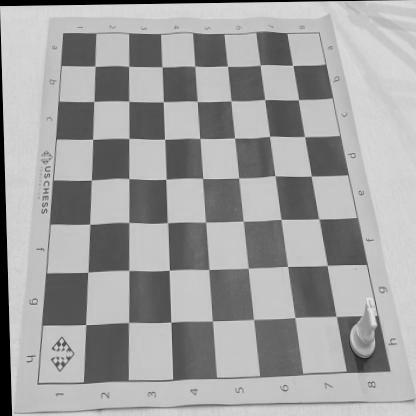white-knight: (346, 297, 376, 359)
